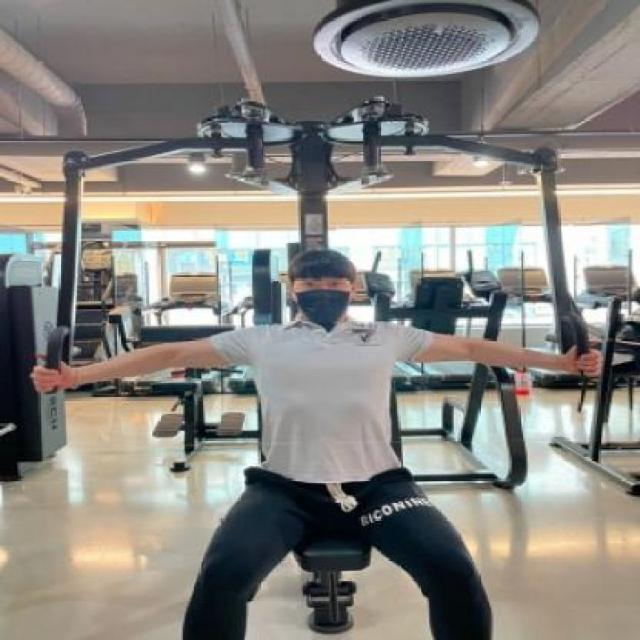chest fly machine: (28, 74, 597, 640)
